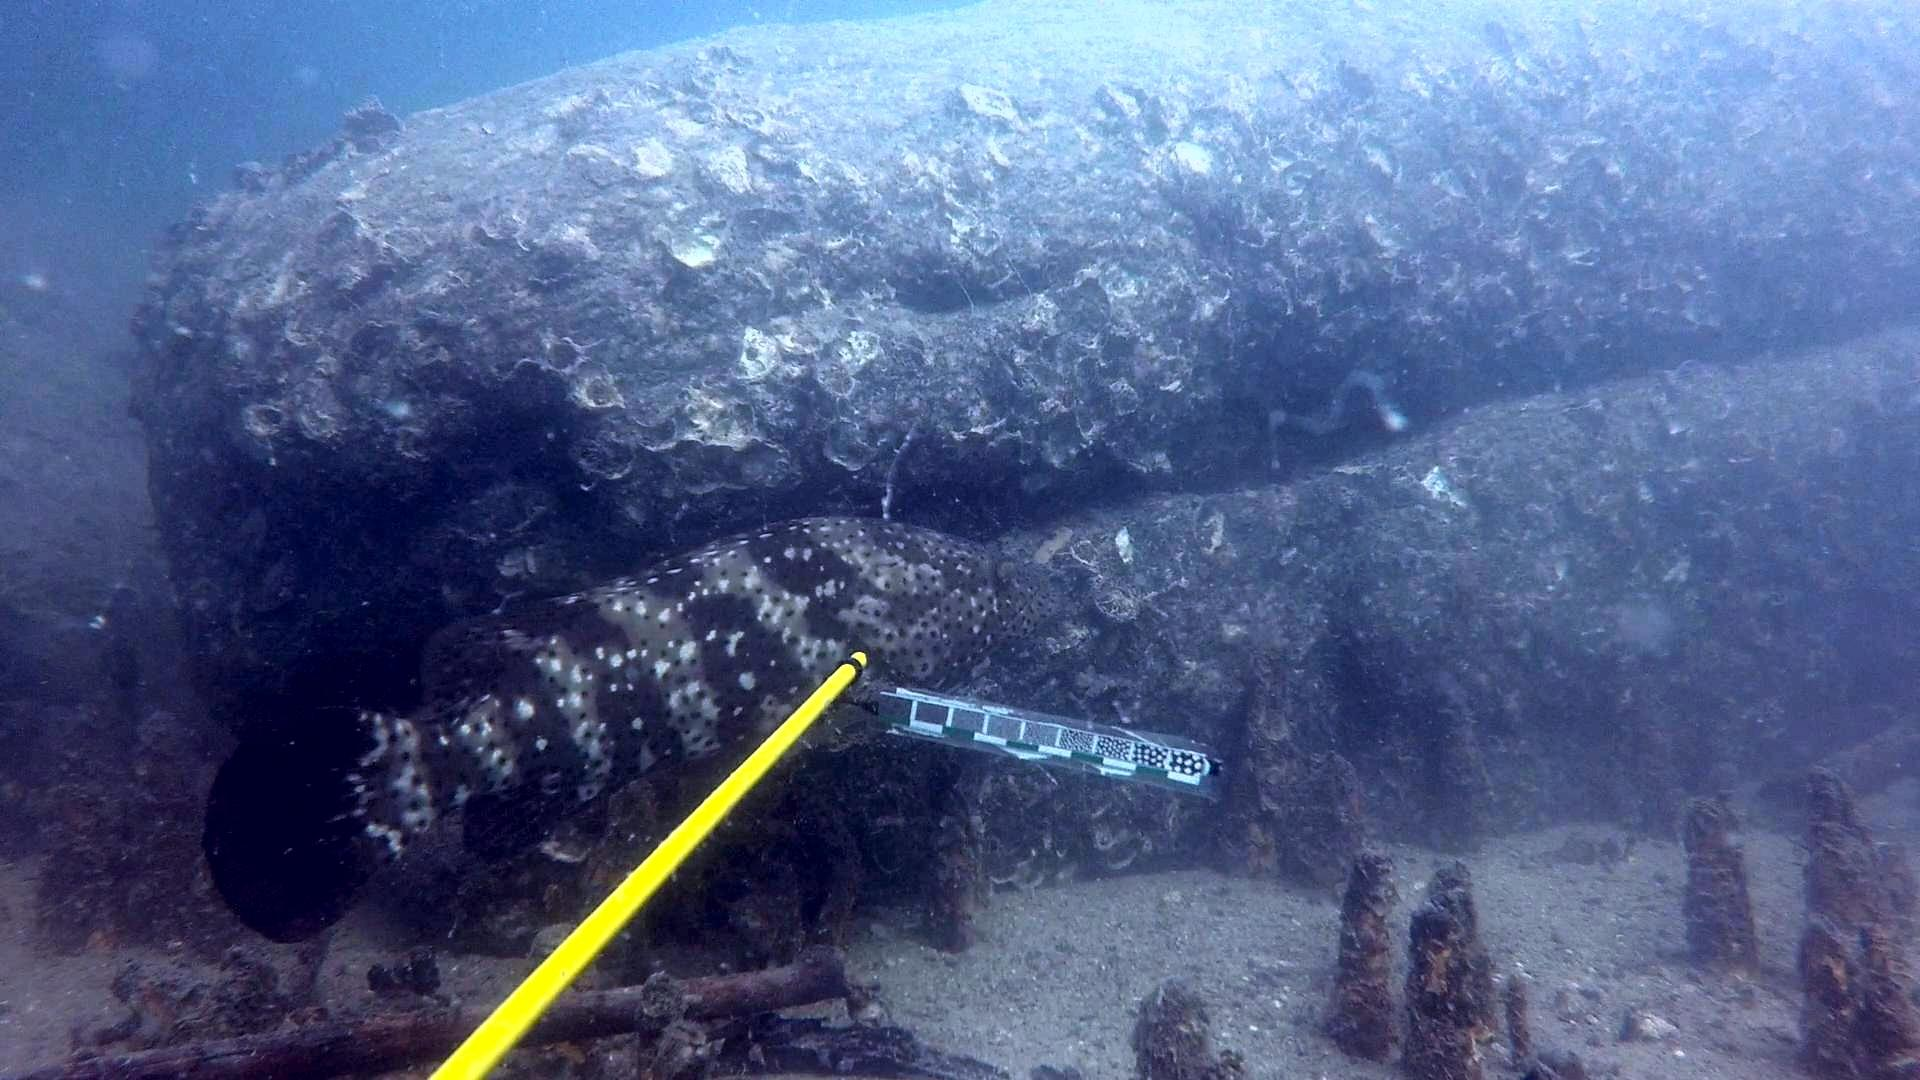epinephelus: (199, 510, 1071, 948)
